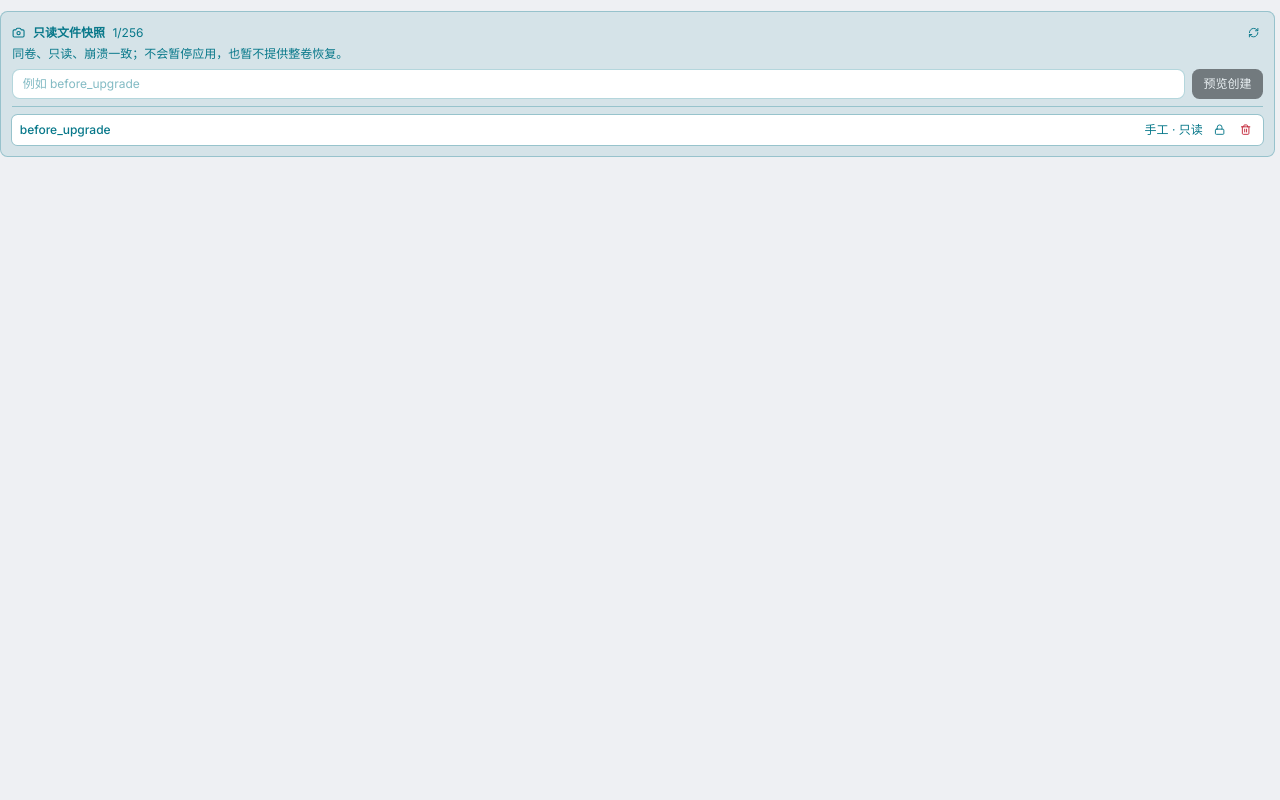
Scenario: BtrfsSnapshotPanel › previews a deletion lock before asking for approval
expect the text "before_upgrade" is shown: met, box [20,122,111,136]
What coordinates should you click on to do the following:
click the button named "锁定快照 before_upgrade"
I would click on:
 (1220, 130)
Its box is [1210,120,1229,139].
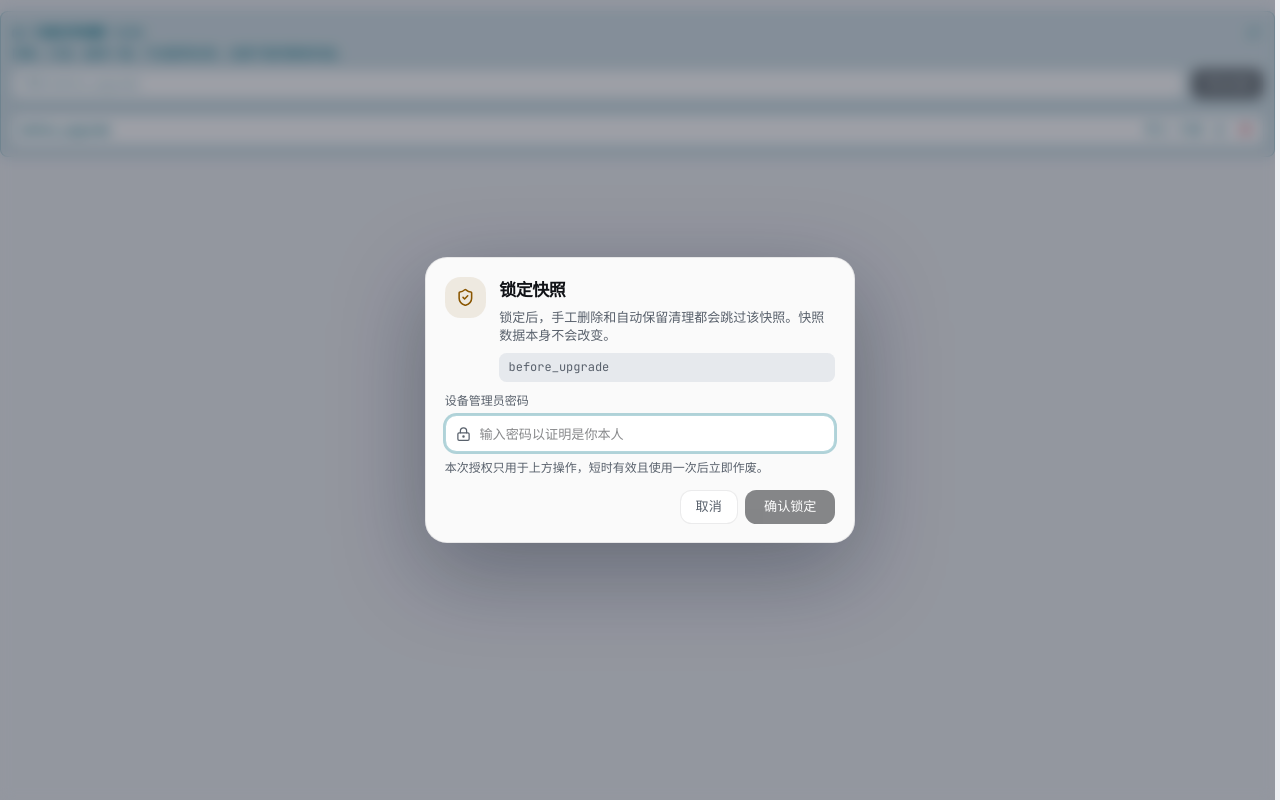
expect the dialog is shown: met, box [425,257,855,543]
expect the text "锁定后，手工删除和自动保留清理都会跳过该快照。快照数据本身不会改变。" is shown: met, box [499,308,835,345]
